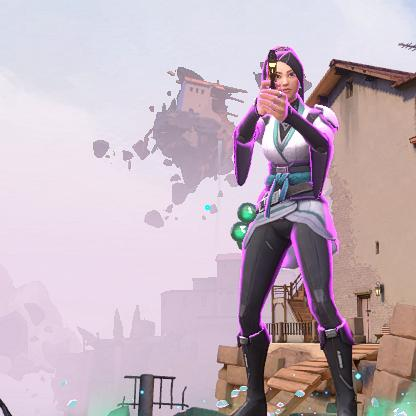enemyBody: (277, 126, 320, 204)
enemyHead: (275, 60, 296, 98)
